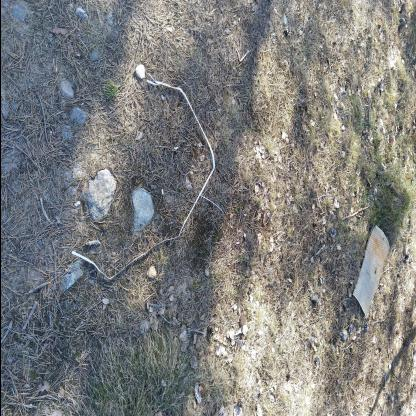karton: (351, 225, 389, 319)
